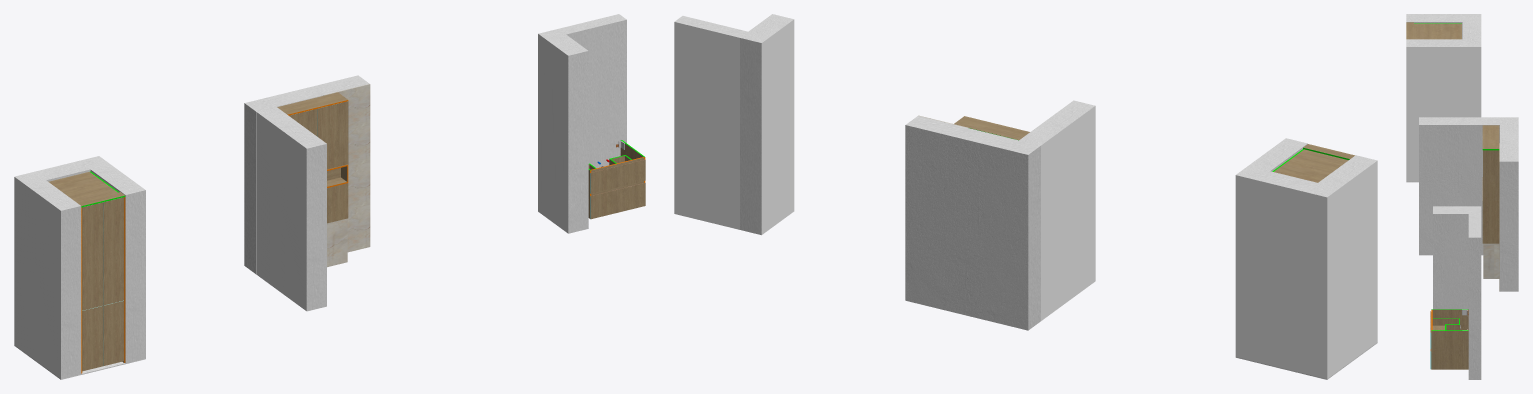
Rendered from sanvuzo-39.glb.
3 views of the same model, side by side, from view 1: azimuth 30°, elevation 25°; view 2: azimuth 150°, elevation 25°; view 3: azimuth 270°, elevation 25° (orthographic). The views are drawn at different scales.
Visible parts, largest first — view 1: L (×4), F (×2), Фасад П (×3), Фронтальная (×5), R, Фасад Л (×2), Мойка_Фасад Низ, Мойка_Фасад верх, Кришка, Інс.Блок 1, Карніз; view 2: L (×4), F (×2), Кришка, R, Карніз; view 3: L (×4), R, F (×2), Мойка_Бок (×2), Бок П, Кришка, Фронтальная, Карніз (×2), Інс.Блок 1, Бок, Мойка_Яшик muller_Бок.
Part boxes in pixels (bbox=[...]): L (×4): bbox=[14, 29, 588, 378]; F (×2): bbox=[15, 14, 626, 181]; Фасад П (×3): bbox=[103, 101, 347, 366]; Фронтальная (×5): bbox=[323, 84, 370, 267]; R: bbox=[90, 156, 145, 363]; Фасад Л (×2): bbox=[82, 202, 102, 371]; Мойка_Фасад Низ: bbox=[590, 182, 645, 219]; Мойка_Фасад верх: bbox=[590, 159, 645, 193]; Кришка: bbox=[48, 172, 117, 202]; Інс.Блок 1: bbox=[327, 183, 348, 223]; Карніз: bbox=[277, 92, 348, 115]; L (×4): bbox=[740, 14, 1377, 378]; F (×2): bbox=[674, 16, 1327, 378]; Кришка: bbox=[1274, 149, 1348, 182]; R: bbox=[1236, 138, 1307, 174]; Карніз: bbox=[954, 116, 1029, 140]; L (×4): bbox=[1406, 14, 1518, 309]; R: bbox=[1406, 39, 1481, 181]; F (×2): bbox=[1462, 14, 1481, 379]; Мойка_Бок (×2): bbox=[1431, 309, 1468, 369]; Бок П: bbox=[1483, 150, 1499, 200]; Кришка: bbox=[1414, 23, 1461, 39]; Фронтальная: bbox=[1483, 243, 1499, 278]; Карніз (×2): bbox=[1406, 22, 1499, 150]; Інс.Блок 1: bbox=[1482, 215, 1499, 243]; Бок: bbox=[1482, 201, 1499, 215]; Мойка_Яшик muller_Бок: bbox=[1432, 318, 1459, 325].
Size of the model in its own units: 8965 by 2609 by 1800.
Materials: 19 (6 with a texture image).
